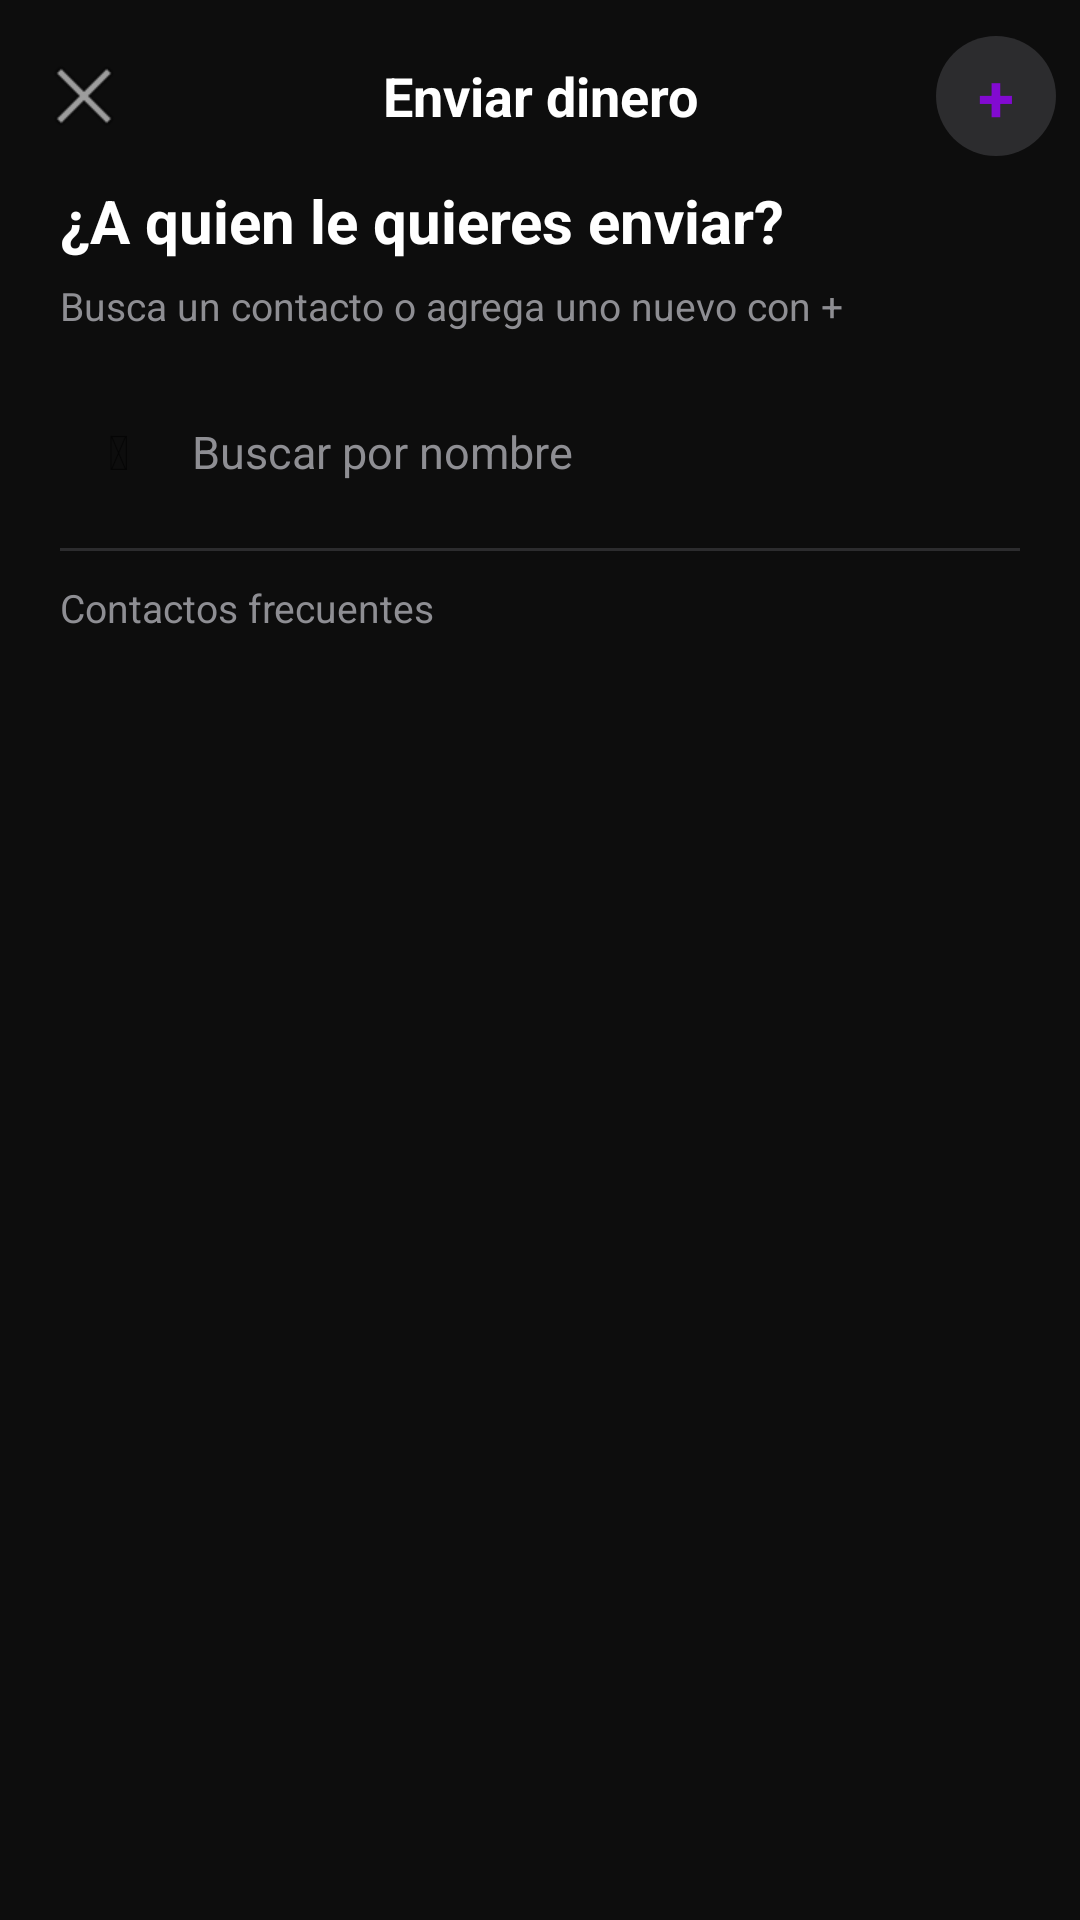

Where to tap for icons on this 1080x1920 app screen, as (x=x, y=y):
Cerrar: (x=84, y=96)
